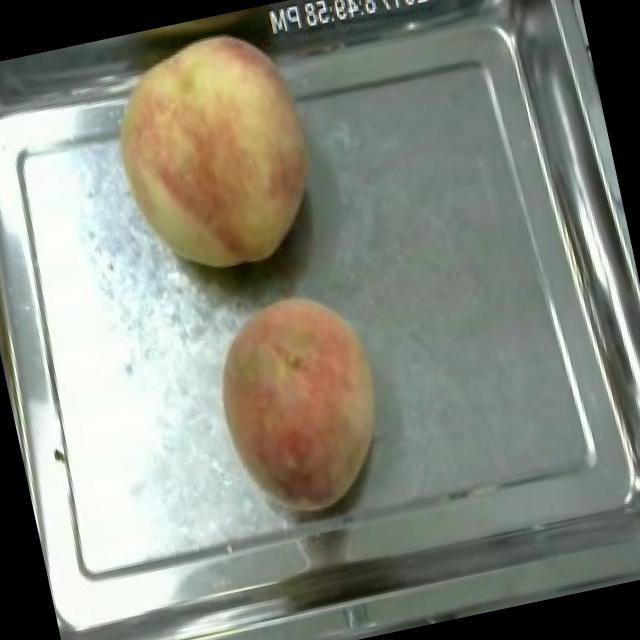Fruit: (90, 9, 340, 294), (190, 276, 410, 536)
